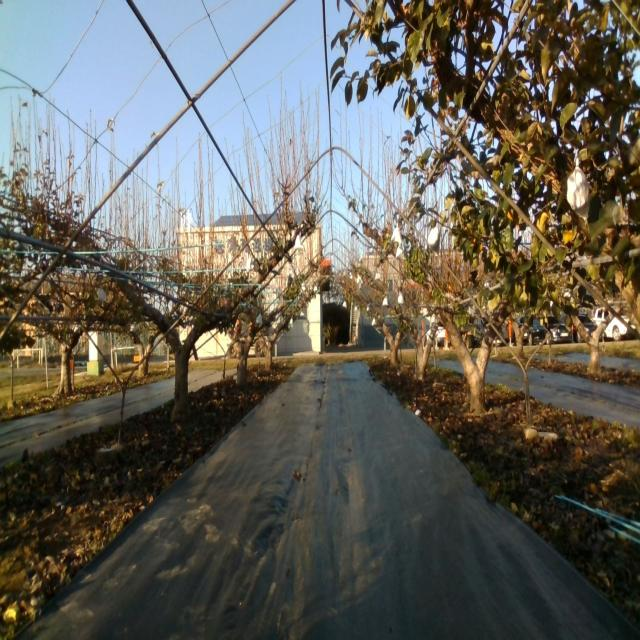pearbags: (566, 168, 592, 221), (427, 226, 440, 251)
